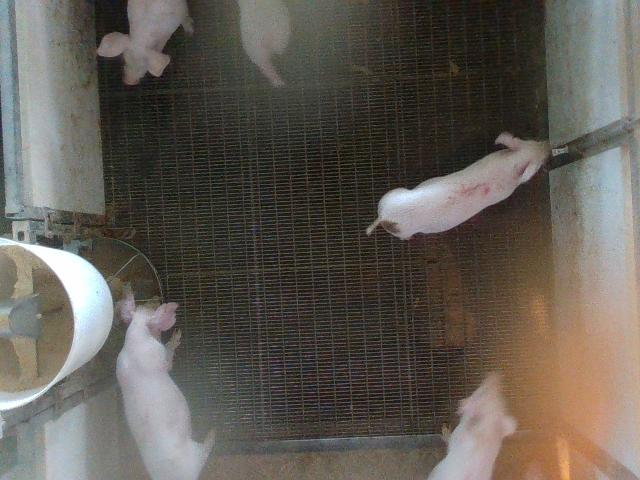pig-5: (366, 132, 549, 239)
